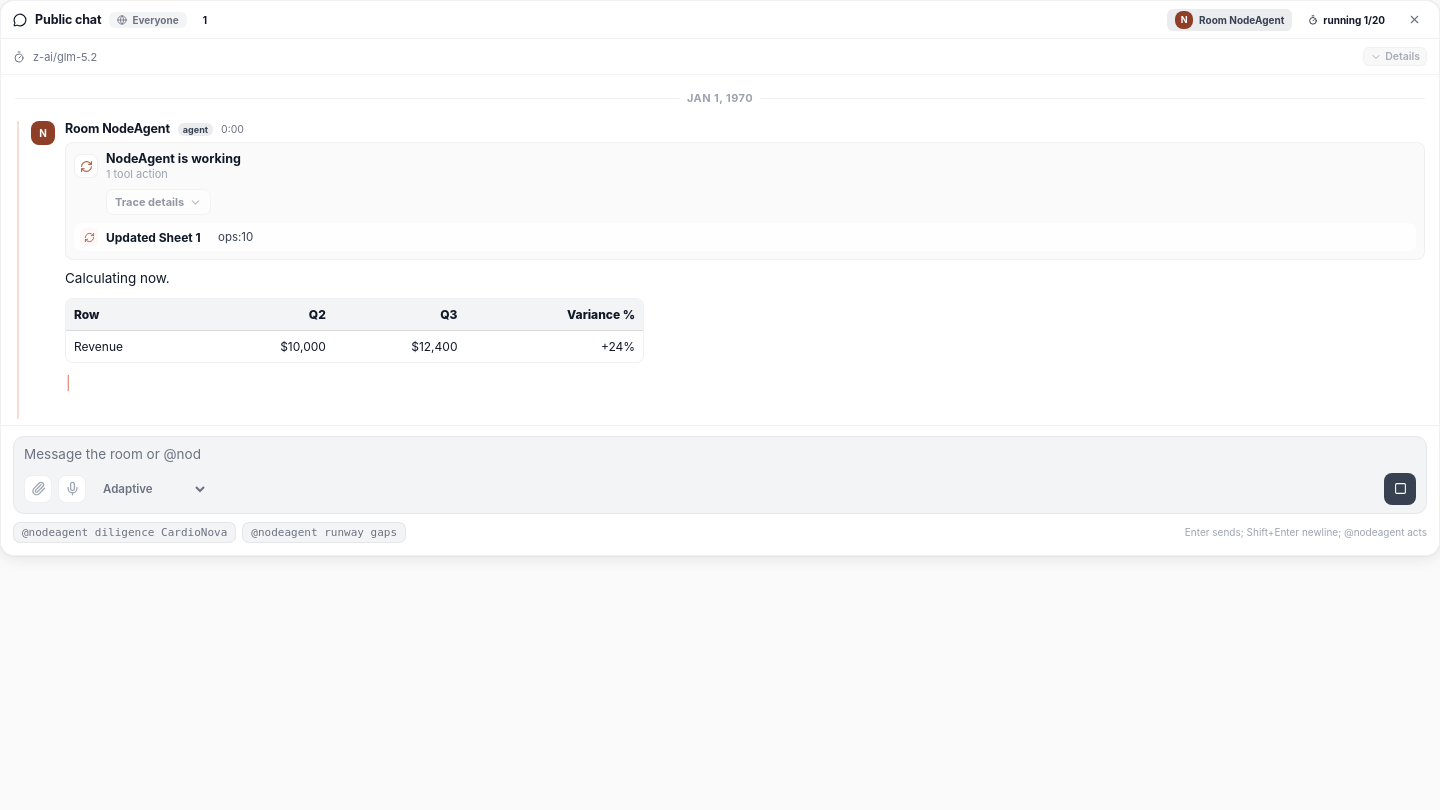
Chat reasoning-frame job detail › renders the active public job as one unified text plus tool stream
Expected: the element with test id "agent-unified-stream" is shown, [65,142,1425,395]
Expected: the element with test id "agent-progress-card" is shown, [65,142,1425,260]
Click the button with test id "agent-progress-details-toggle" at (159, 202), box [106,189,211,215]
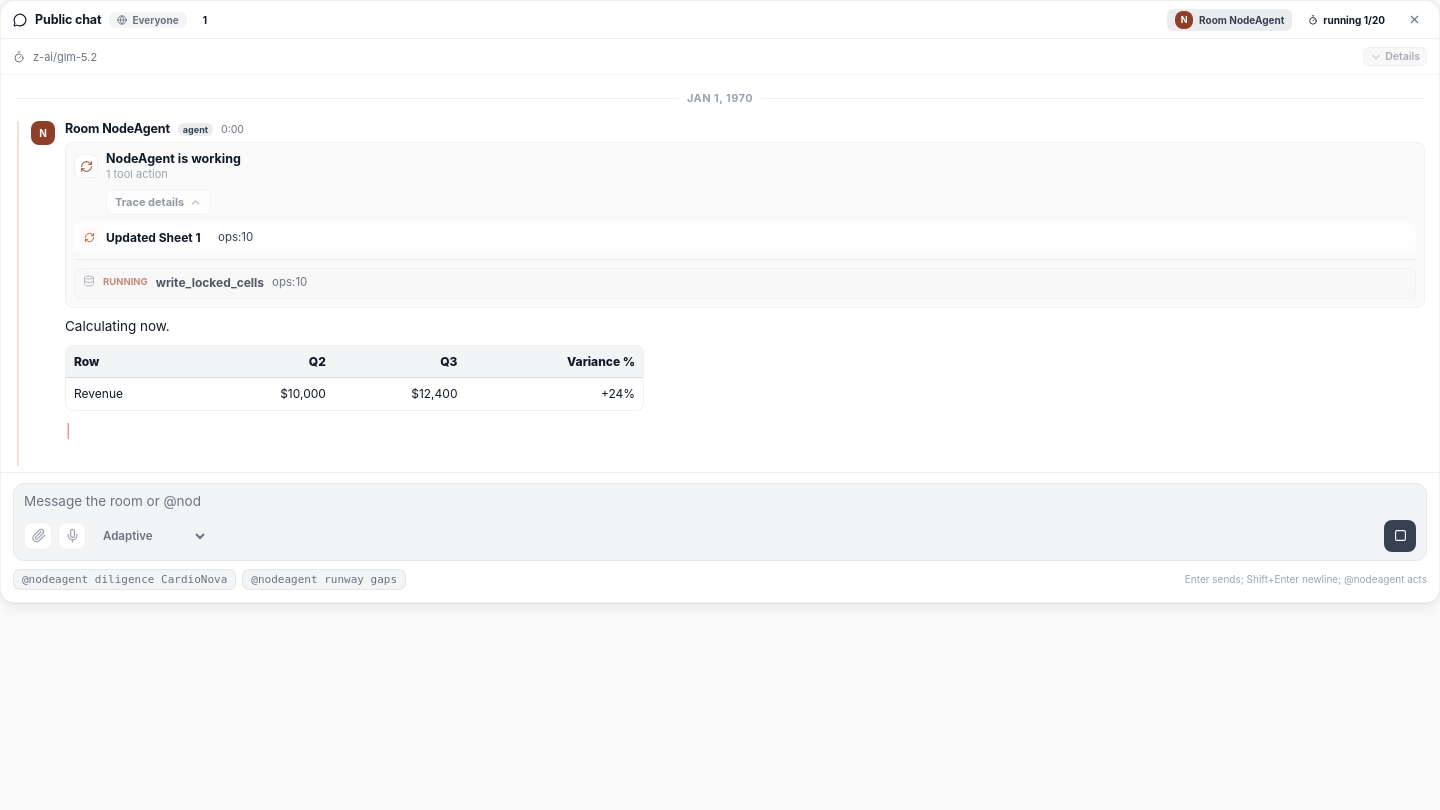
Expected: the text "write_locked_cells" is shown
Click the text "write_locked_cells" at (210, 284), box [156,275,264,292]
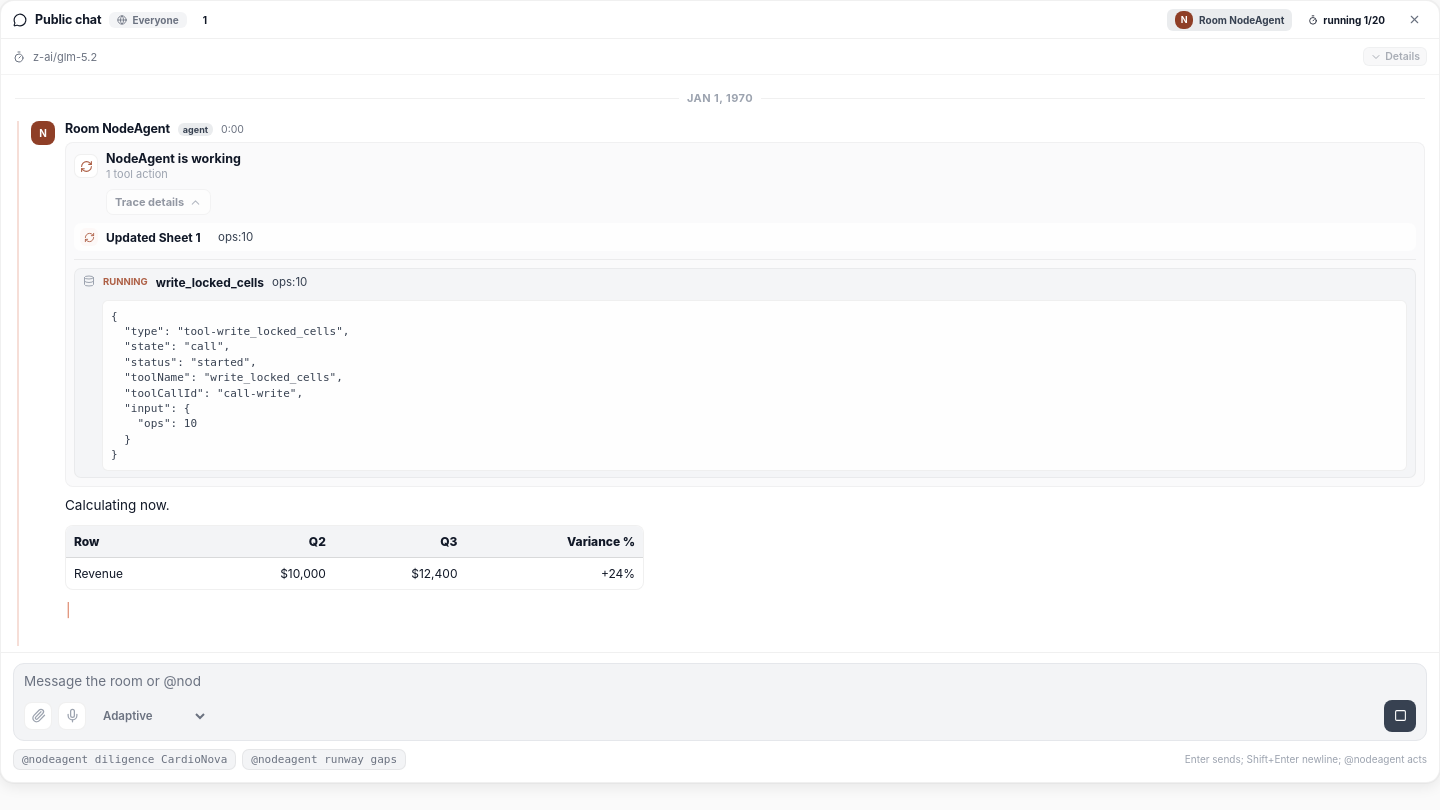
Expected: the text "\"ops\": 10" is shown, [111,310,349,461]
